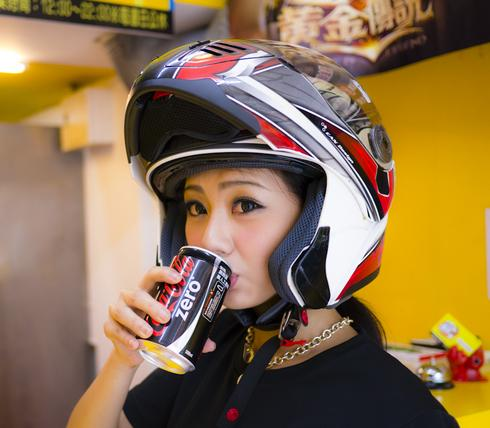helmet: (127, 49, 414, 285)
